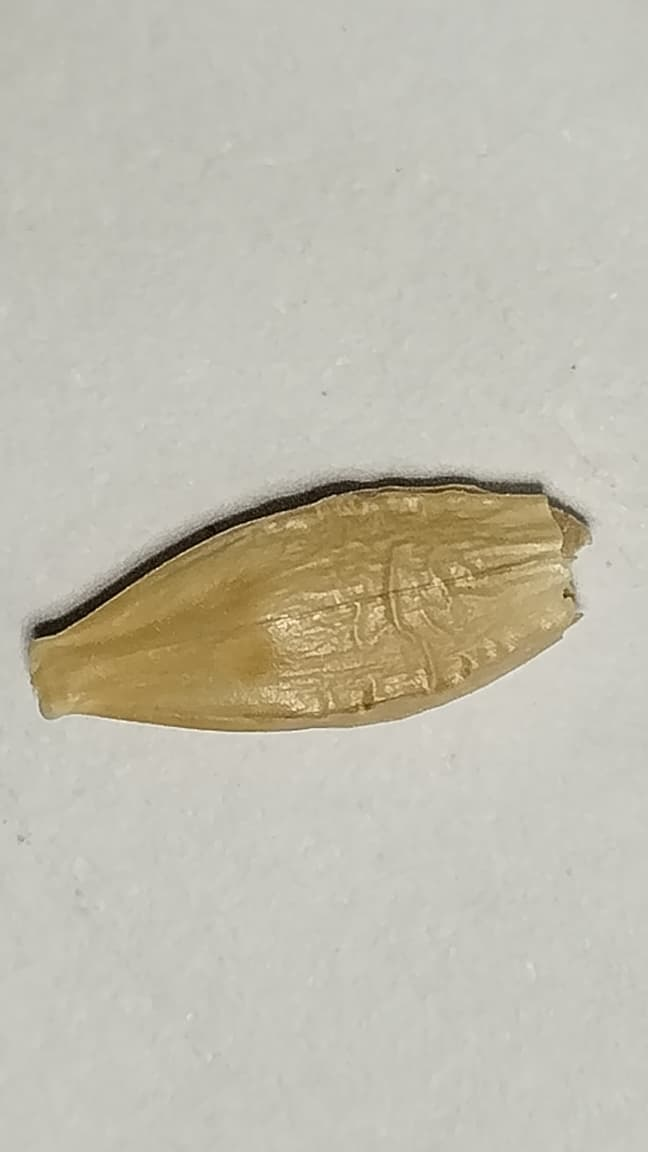healthy-70-60: (30, 486, 586, 724)
insectdamage: (562, 528, 592, 622)
shriveledseed: (328, 517, 509, 725), (390, 490, 502, 552)
